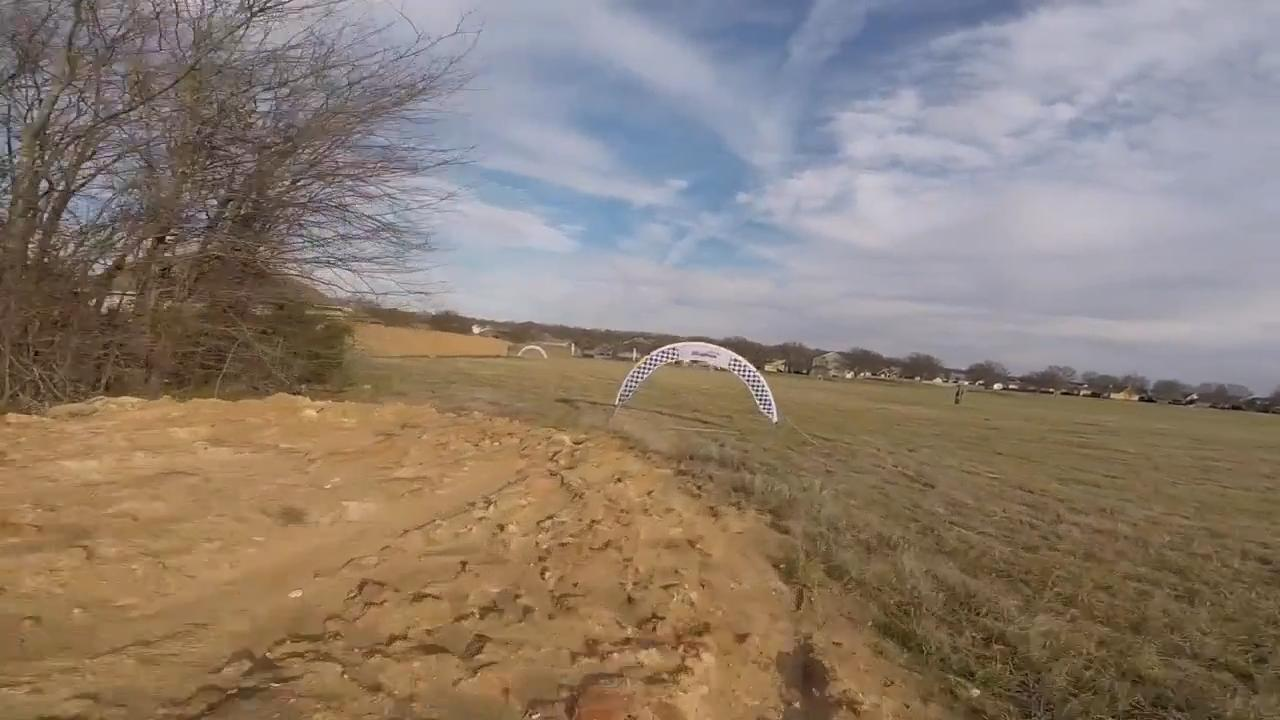gate: (610, 338, 782, 429)
